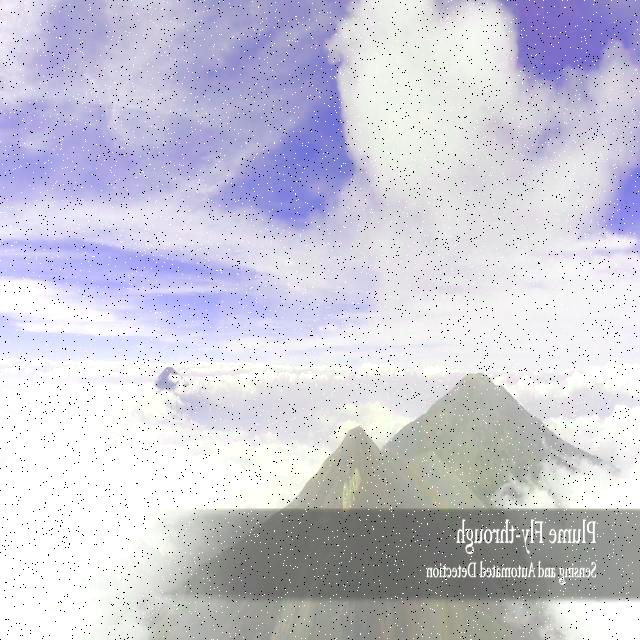Summit: (272, 423, 430, 508)
